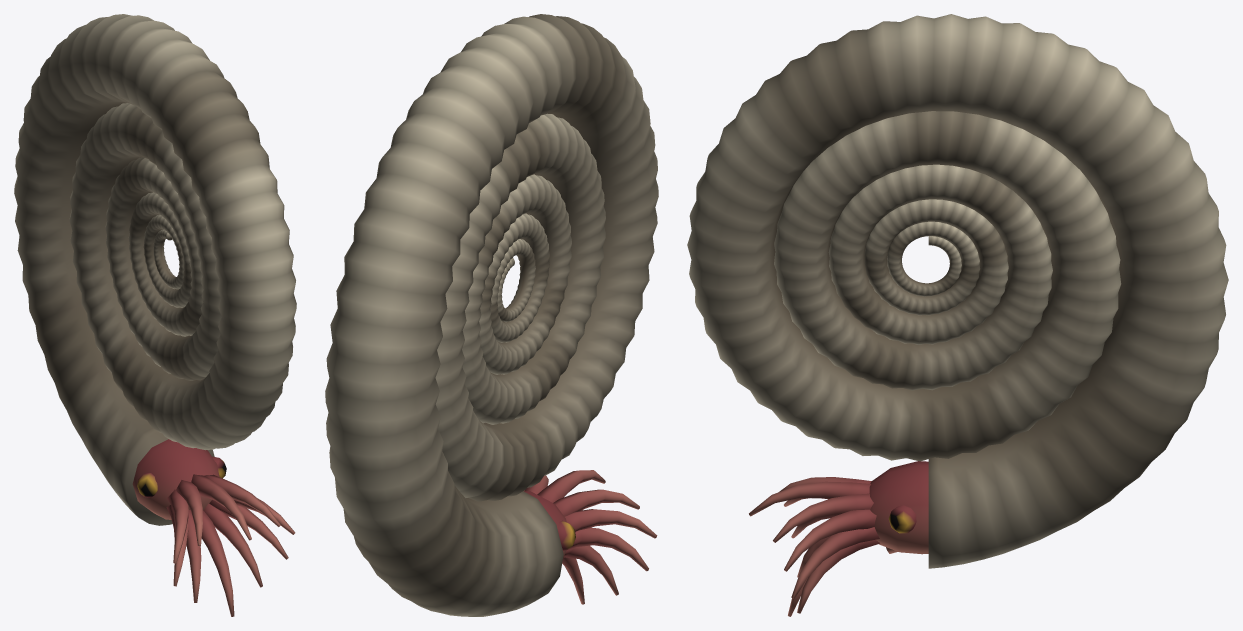
File: Dactylioceras.fbx
3 renders of one model, left to right at view 1: azimuth 30°, elevation 25°; view 2: azimuth 150°, elevation 25°; view 3: azimuth 270°, elevation 25°, orthographic. The views are drawn at different scales.
Visible parts, largest first — view 1: Dactylioceras; view 2: Dactylioceras; view 3: Dactylioceras.
Boxes of the visible parts, x1,y1,x2,y2 form: Dactylioceras: (14, 14, 296, 616); Dactylioceras: (325, 14, 658, 616); Dactylioceras: (687, 14, 1228, 616).
Size of the model in its own units: 0.4792 by 2.01 by 1.65.
